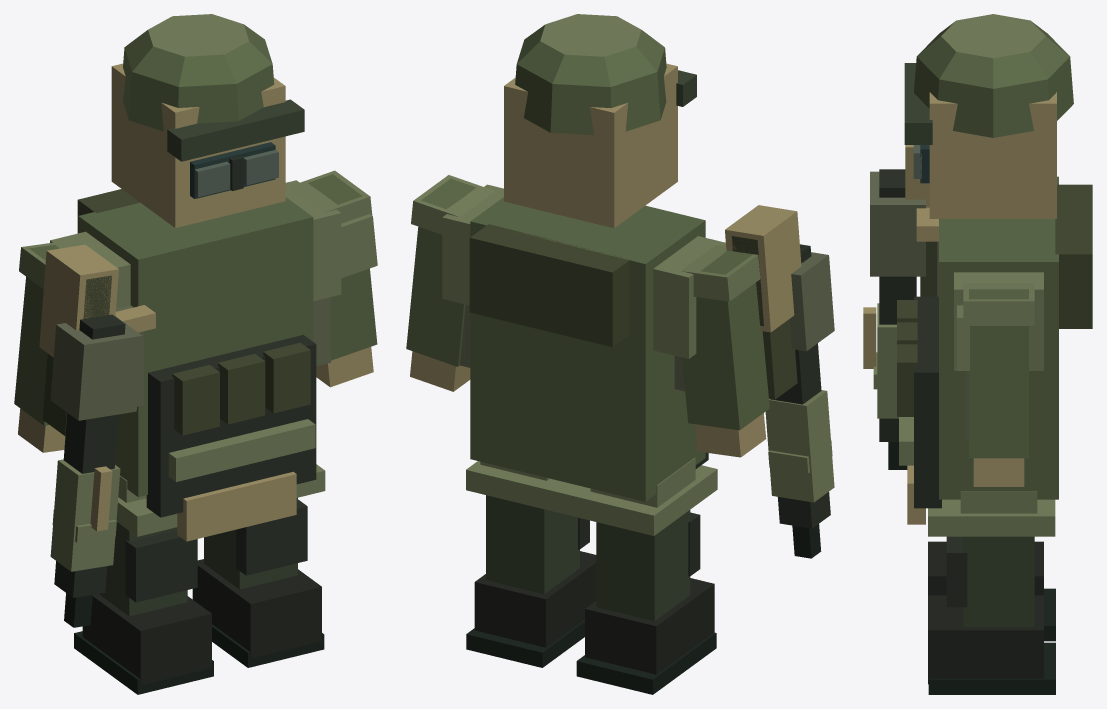
3 renders of one model, left to right at view 1: azimuth 30°, elevation 25°; view 2: azimuth 150°, elevation 25°; view 3: azimuth 270°, elevation 25°, orthographic.
Parts seen in each view (by area): view 1: AK_BODY, AK_HEAD, AK_WEAPON, AK_LEG_L, AK_LEG_R, AK_ARM_R, AK_ARM_L; view 2: AK_BODY, AK_HEAD, AK_WEAPON, AK_LEG_L, AK_LEG_R, AK_ARM_L, AK_ARM_R; view 3: AK_BODY, AK_HEAD, AK_LEG_R, AK_ARM_R, AK_WEAPON, AK_LEG_L.
Boxes of the visible parts, x1,y1,x2,y2 form: AK_BODY: (50,180,341,541); AK_HEAD: (111,14,304,227); AK_WEAPON: (39,244,142,627); AK_LEG_L: (74,475,213,694); AK_LEG_R: (192,497,324,667); AK_ARM_R: (288,170,377,387); AK_ARM_L: (14,240,74,452); AK_BODY: (442,184,725,535); AK_HEAD: (504,14,696,228); AK_WEAPON: (725,205,834,558); AK_LEG_L: (576,457,716,694); AK_LEG_R: (466,461,596,667); AK_ARM_L: (681,245,769,457); AK_ARM_R: (406,175,494,391); AK_BODY: (897,176,1092,536); AK_HEAD: (904,14,1073,218); AK_LEG_R: (928,491,1055,694); AK_ARM_R: (957,283,1034,486); AK_WEAPON: (863,145,937,469); AK_LEG_L: (928,541,1055,641).
Bounding box in the file's own units: 1.09 × 1.81 × 0.6125.
1 material, 1 textured.
